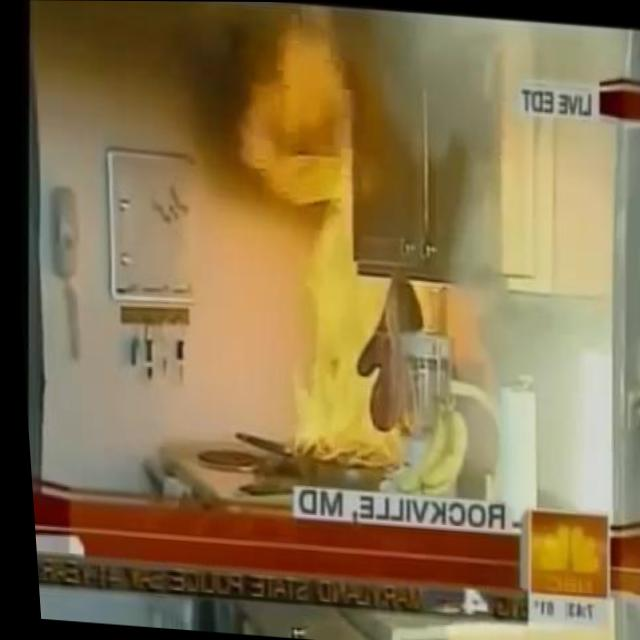fire: (213, 22, 449, 469)
